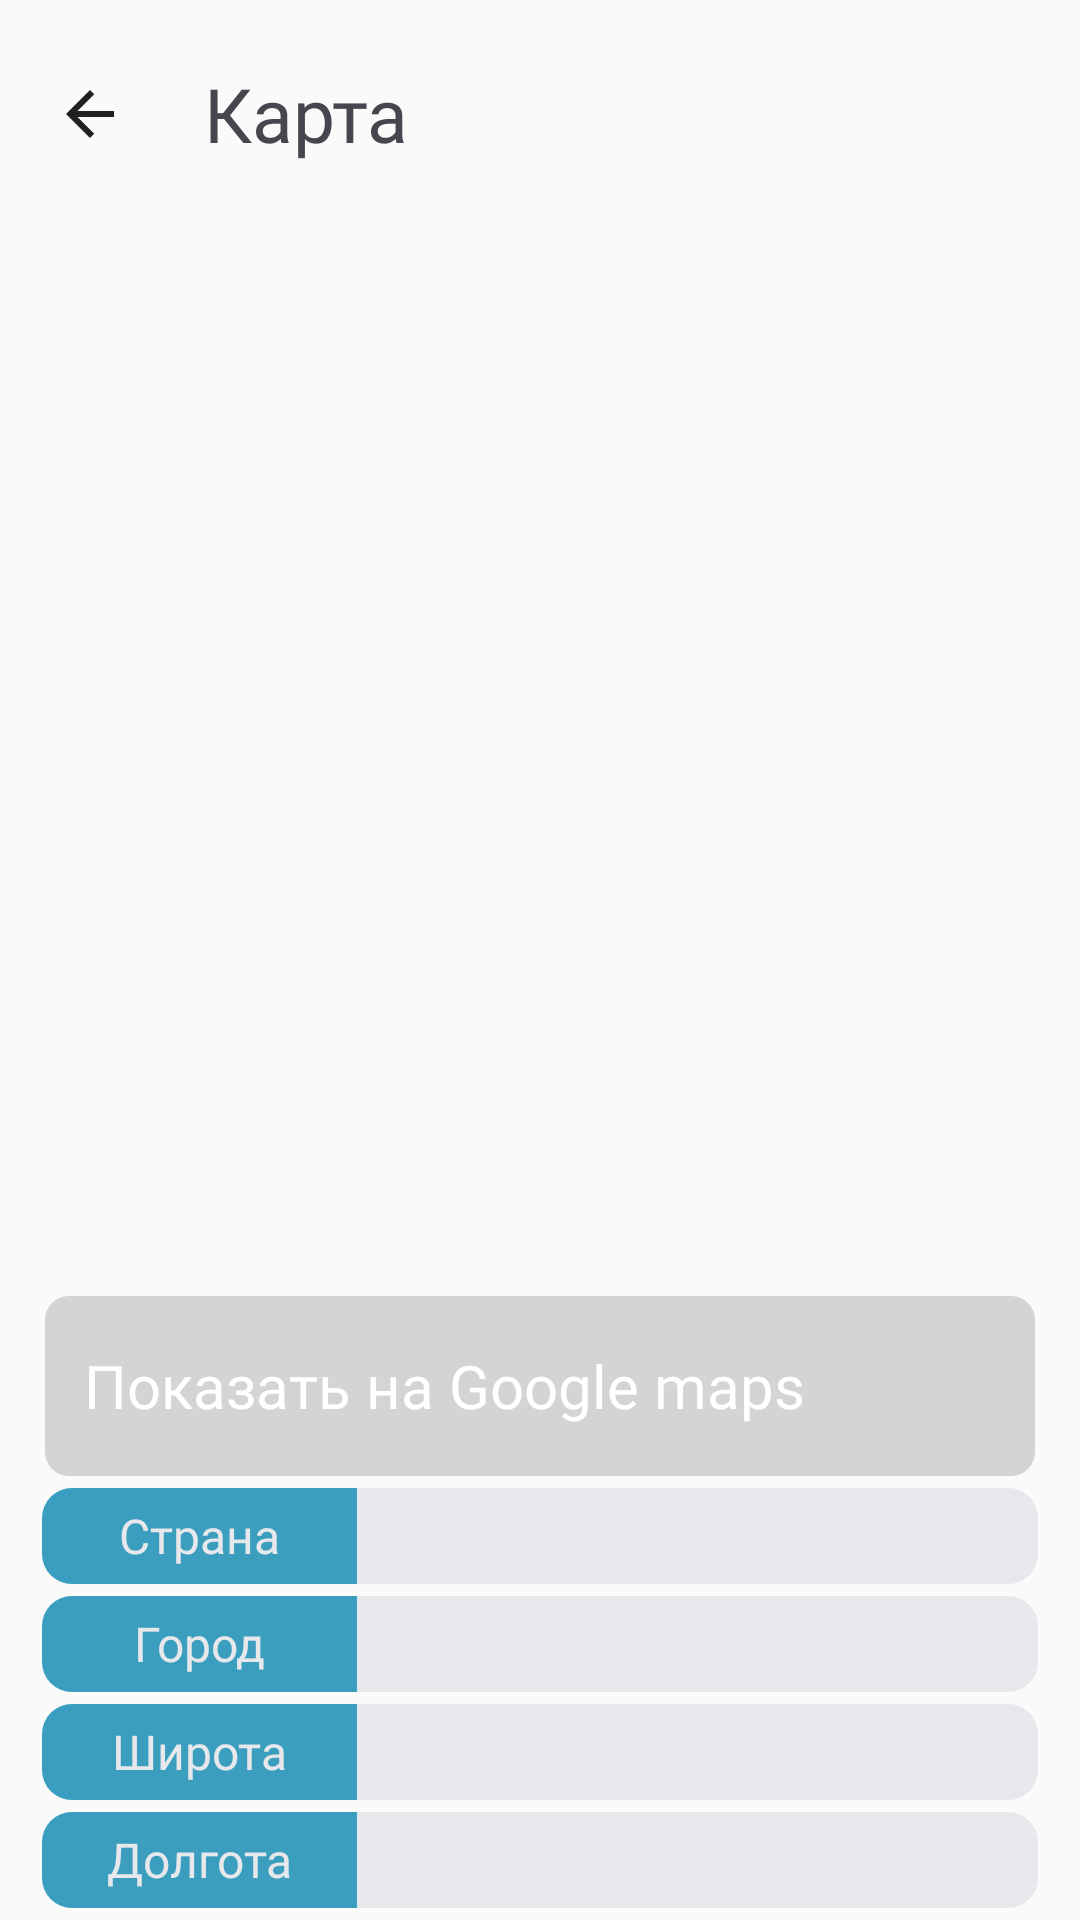

Point at icon controls on the screen. Image size 1080×1920, points as [x,y].
back: [90,114]
